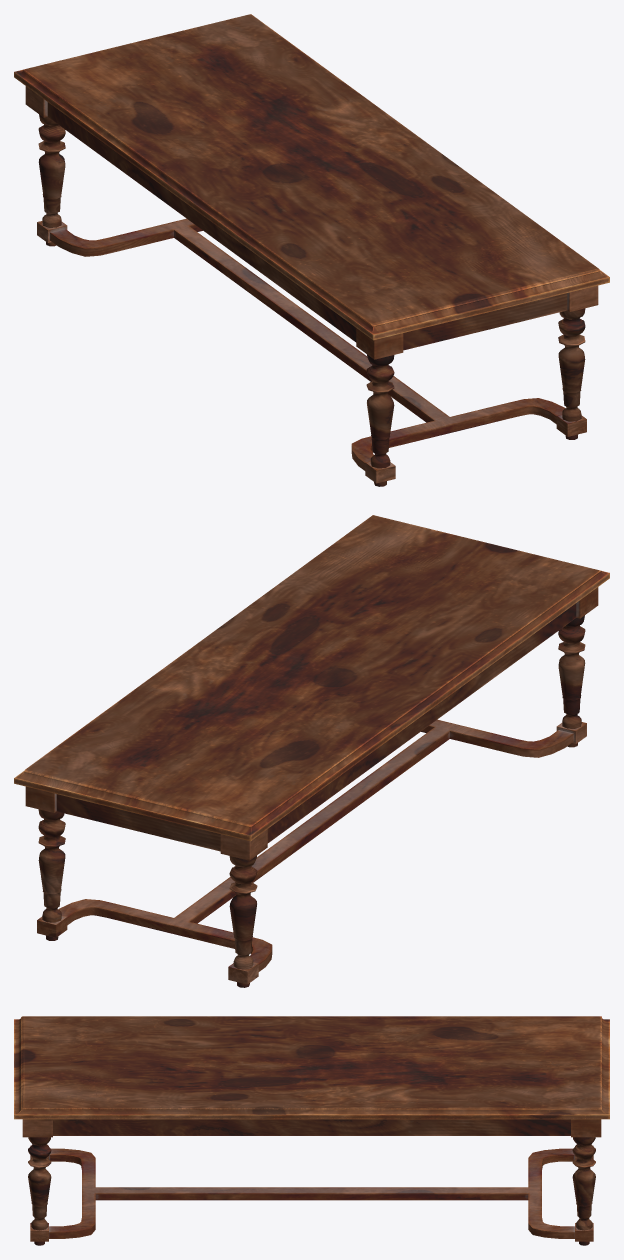
The picture shows the model from 3 angles, top to bottom: view 1: azimuth 30°, elevation 25°; view 2: azimuth 150°, elevation 25°; view 3: azimuth 270°, elevation 25°; orthographic projection. The views are drawn at different scales.
Visible parts, largest first — view 1: Mesa_Obj; view 2: Mesa_Obj; view 3: Mesa_Obj.
Part boxes in pixels (box(x1,y1,x2,y2)): Mesa_Obj: box(14, 14, 609, 486); Mesa_Obj: box(14, 515, 609, 987); Mesa_Obj: box(14, 1016, 609, 1245).
Size of the model in its own units: 0.092 by 0.0638 by 0.242.
3 materials, 3 textured.
